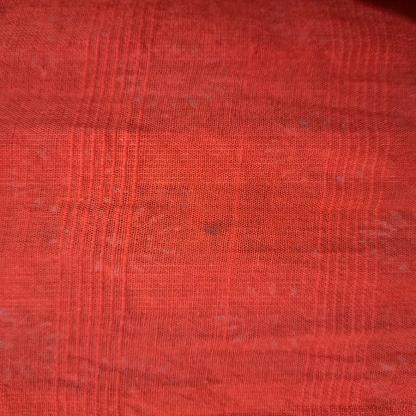spot: (192, 215, 260, 244)
